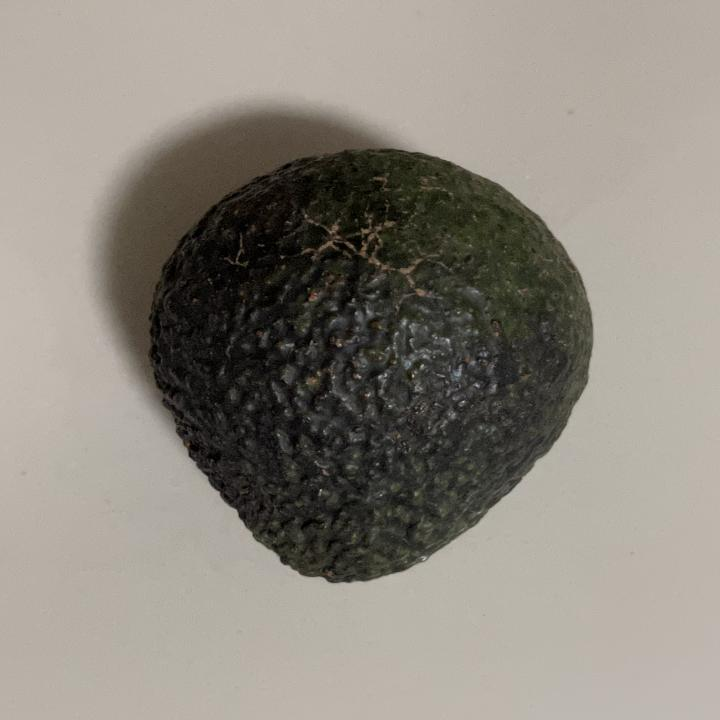Level1: (136, 139, 608, 595)
